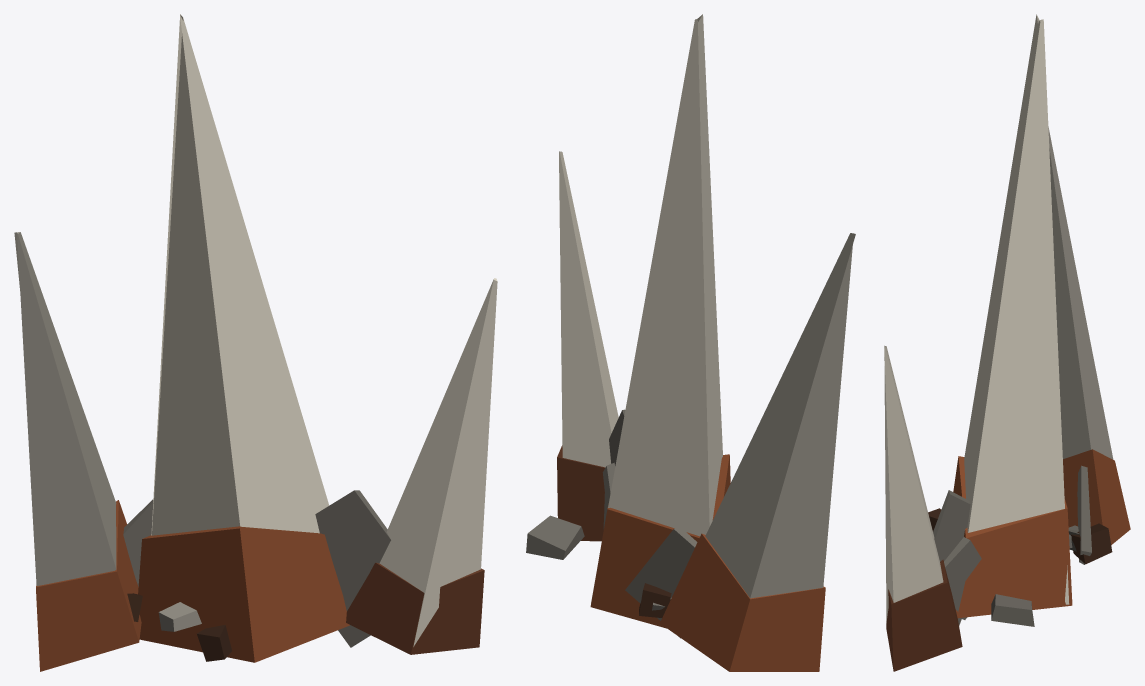
The model's file is hull_shard.glb.
The picture shows the model from 3 angles, left to right: view 1: azimuth 30°, elevation 25°; view 2: azimuth 150°, elevation 25°; view 3: azimuth 270°, elevation 25°; orthographic projection. The views are drawn at different scales.
Visible parts, largest first — view 1: hull_shard; view 2: hull_shard; view 3: hull_shard.
Boxes of the visible parts, x1,y1,x2,y2 form: hull_shard: (14,14,497,671); hull_shard: (526,14,855,671); hull_shard: (884,14,1130,671).
Bounding box in the file's own units: 19.52 × 30.05 × 11.84.
